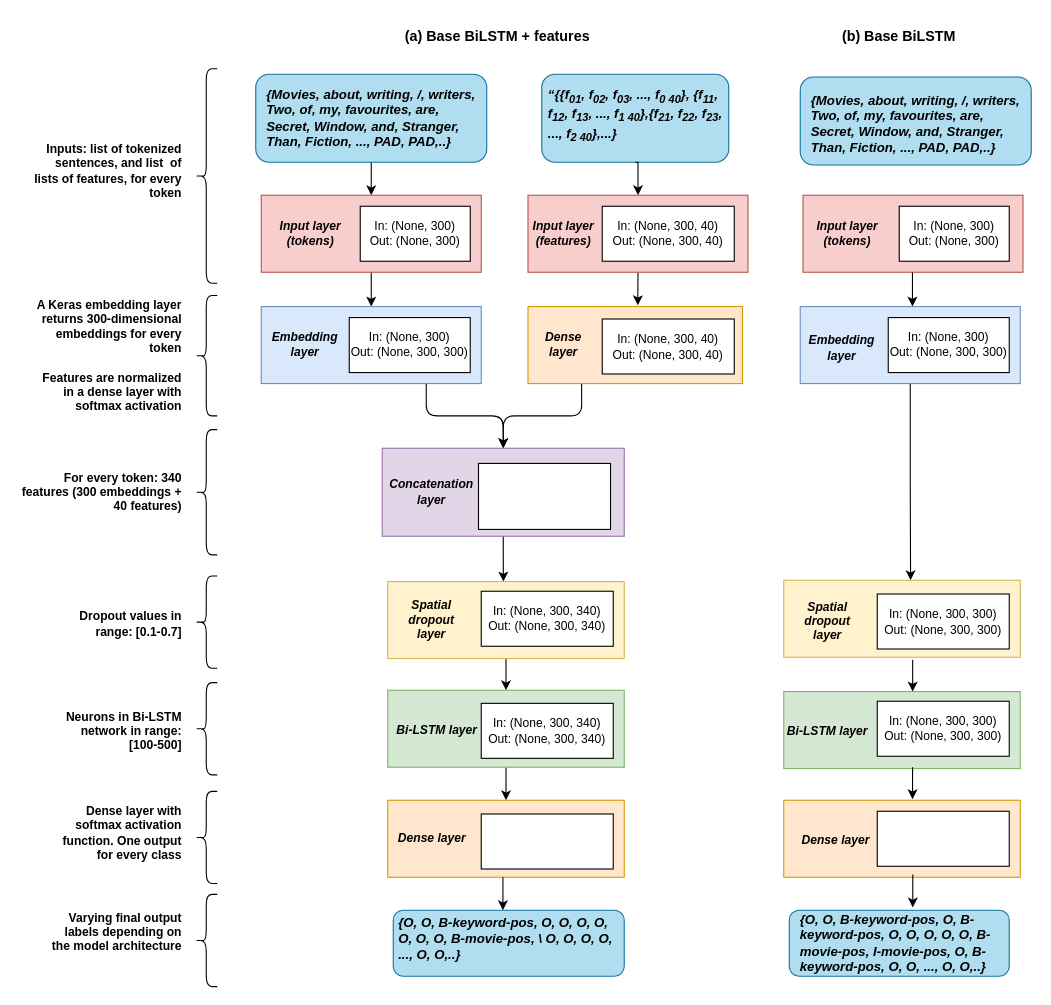
Image size: 1051x1005. Some labels were removed from this diagram. Each missing label, with the centre of its shape:
In: [(None, 300, 300), (None, 300, 40)] Out: (None, 300, 340): [543,495]
Input: (None, 300, 300) Output: (None, 300, 17): [942,838]
Input: (None, 300, 340) Output: (None, 300, 17): [546,841]
